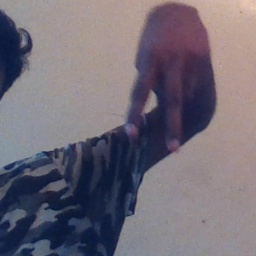Y: (122, 4, 215, 154)
